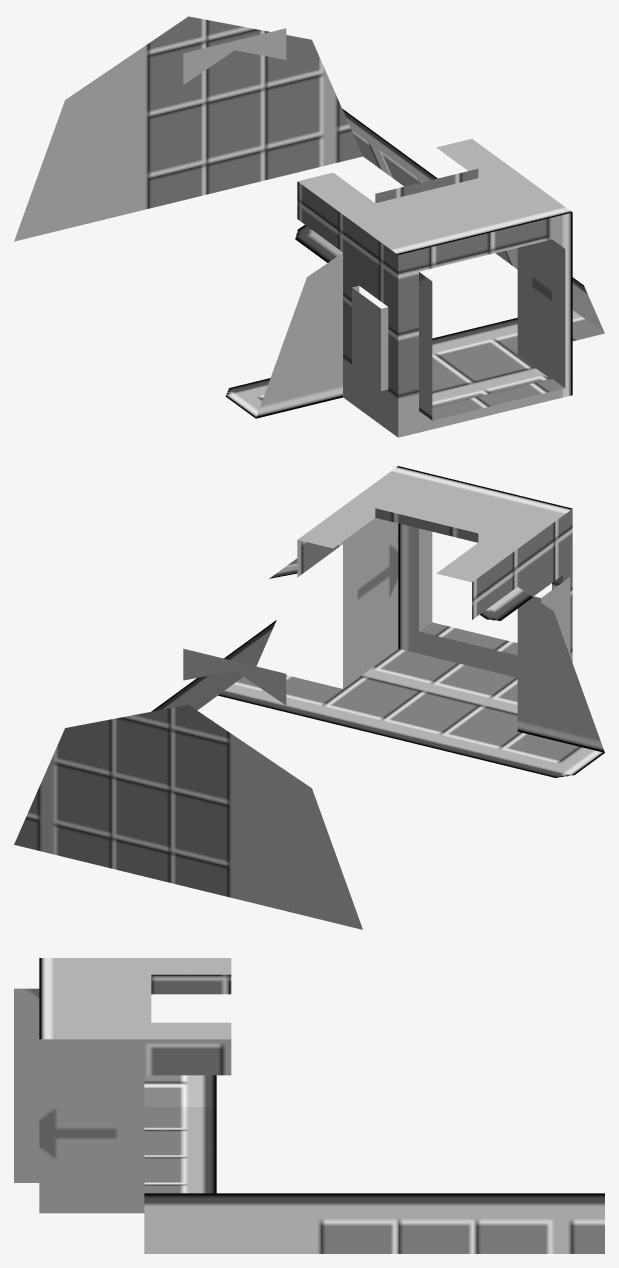
File: powerstation_burn.obj
3 views of the same model, one above another, from view 1: azimuth 30°, elevation 25°; view 2: azimuth 150°, elevation 25°; view 3: azimuth 270°, elevation 25° (orthographic). The views are drawn at different scales.
Parts seen in each view (by area): view 1: 柱体; view 2: 柱体; view 3: 柱体.
Boxes of the visible parts, x1=… form: 柱体: x1=14, y1=16, x2=604, y2=437; 柱体: x1=14, y1=466, x2=604, y2=929; 柱体: x1=14, y1=958, x2=604, y2=1253.
Size of the model in its own units: 3.73 by 1.96 by 5.74.
